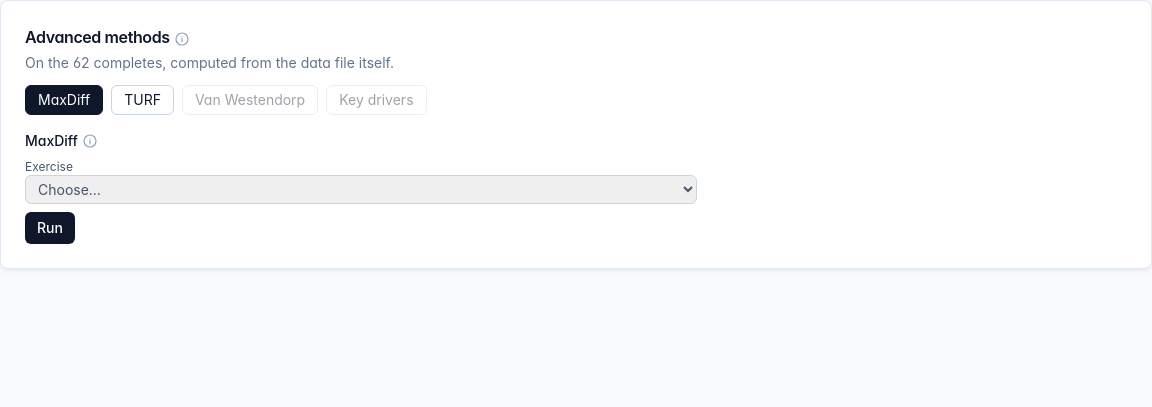
Scenario: MethodsPanel › offers only the methods the data supports and shows MaxDiff scores
Expected: the text "On the 62 completes, computed from the data file itself." is shown, [25,54,394,71]
Expected: the button "Van Westendorp" is disabled, [182,85,318,115]
Select "MAXDIFF_LIKELY_MD (12 screens)" in the dropdown labelled "Exercise" at point(361, 190), box [25,175,697,204]
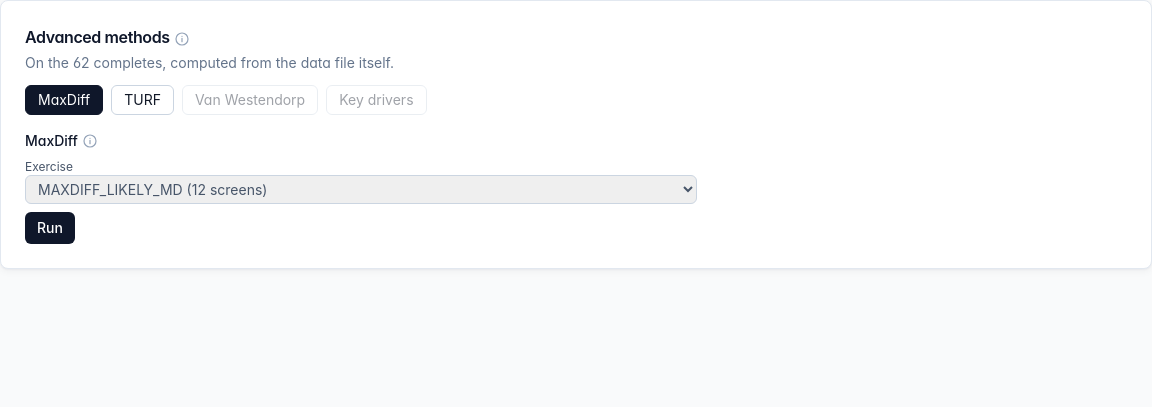
Click the button "Run".
click(50, 228)  # box [25,212,75,244]
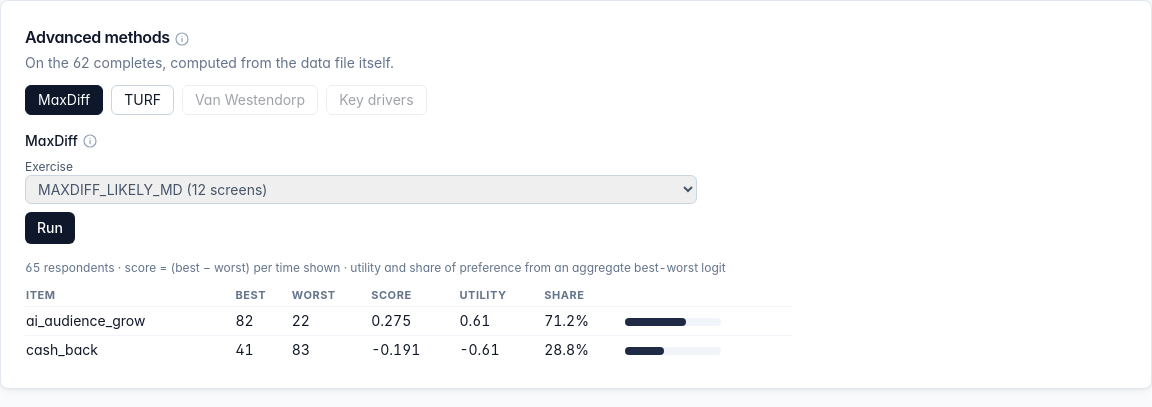
Expected: the text "ai_audience_grow" is shown, [25,306,234,336]
Expected: the text "-0.191" is shown, [370,336,458,364]
Expected: the text "71.2%" is shown, [543,306,624,336]
